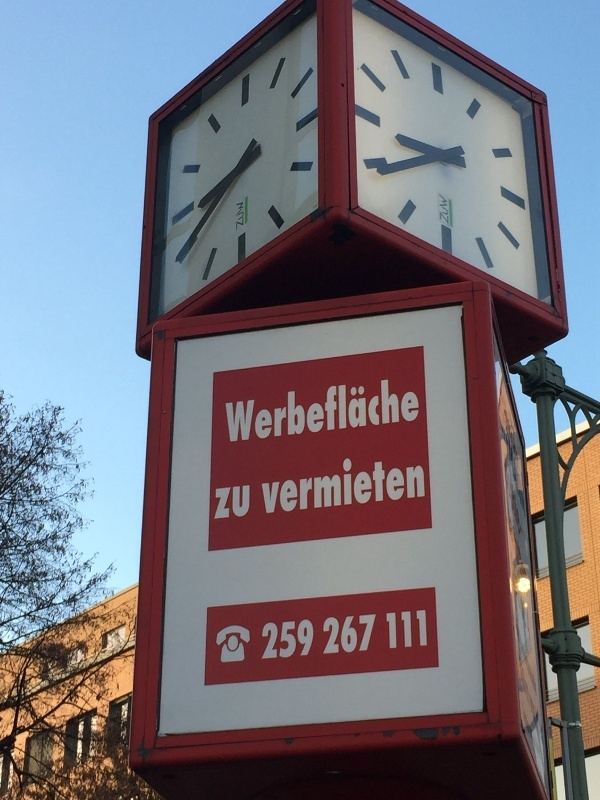text: (241, 372, 256, 445), (257, 372, 272, 445), (273, 372, 288, 445), (289, 372, 304, 445), (305, 372, 320, 445), (321, 372, 336, 445), (337, 372, 352, 445), (353, 372, 368, 445), (369, 372, 384, 445), (385, 372, 400, 445), (401, 372, 416, 445), (226, 372, 240, 445), (273, 450, 288, 517), (289, 450, 304, 517), (305, 450, 320, 517), (321, 450, 336, 517), (337, 450, 352, 517), (353, 450, 368, 517), (369, 450, 384, 517), (385, 450, 400, 517), (401, 450, 416, 517), (262, 450, 272, 517), (337, 613, 352, 656), (353, 613, 368, 656), (417, 450, 426, 517), (273, 620, 288, 659), (289, 620, 304, 659), (401, 610, 416, 649), (225, 485, 240, 521), (324, 613, 336, 656), (387, 610, 400, 649), (305, 620, 315, 659), (417, 610, 427, 649), (241, 485, 251, 521), (263, 620, 272, 659), (369, 613, 377, 656), (216, 485, 224, 521), (439, 194, 448, 225), (417, 372, 420, 445), (236, 202, 240, 230), (241, 202, 244, 230)
